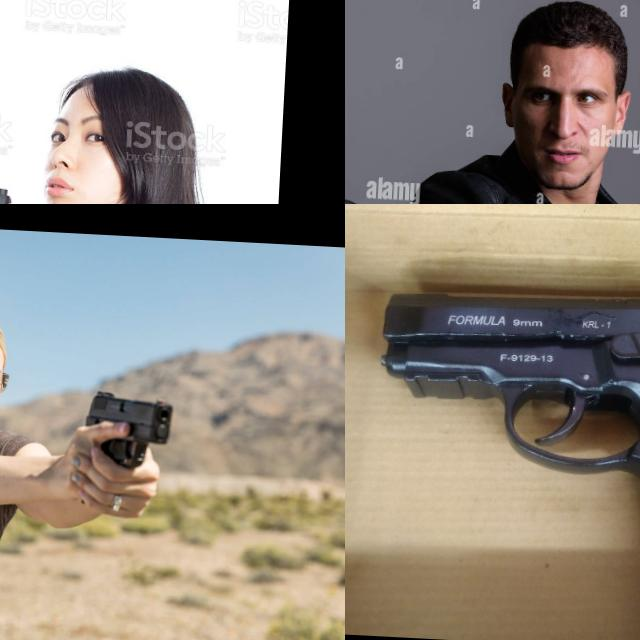handgun: (363, 276, 640, 640), (81, 387, 177, 472), (345, 133, 419, 204)
